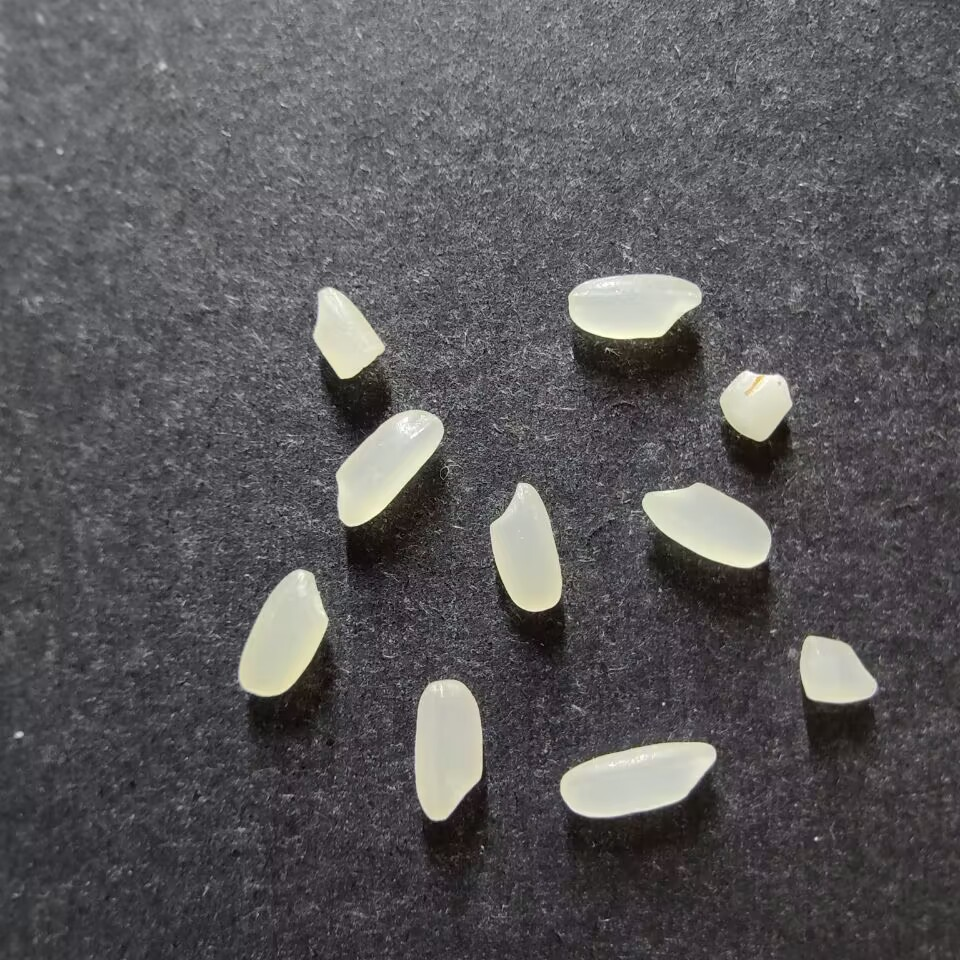broken: (311, 286, 385, 379), (798, 635, 878, 704), (718, 369, 793, 442)
rice: (334, 409, 444, 527), (559, 742, 717, 818), (237, 568, 328, 697), (641, 482, 772, 569), (413, 679, 484, 822), (488, 481, 563, 612), (567, 273, 703, 340)
